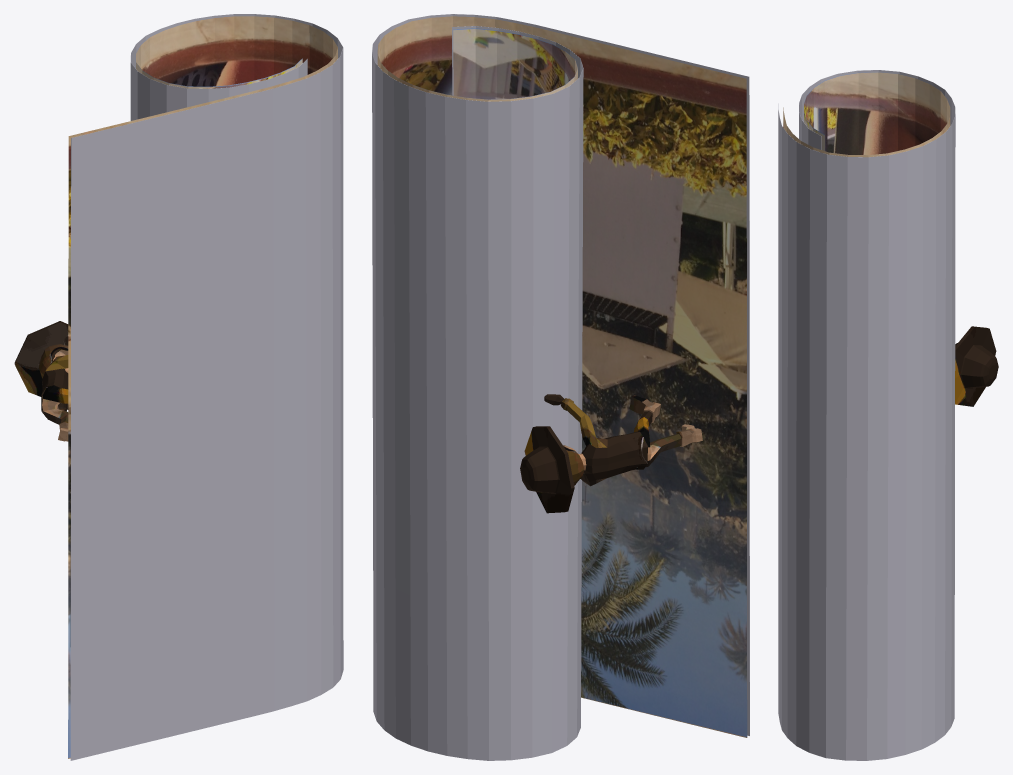
Rendered from start_file2_000031.obj.
3 renders of one model, left to right at view 1: azimuth 30°, elevation 25°; view 2: azimuth 150°, elevation 25°; view 3: azimuth 270°, elevation 25°, orthographic. The views are drawn at different scales.
Visible parts, largest first — view 1: Cube_Cube.001, Character_Cube; view 2: Cube_Cube.001, Character_Cube; view 3: Cube_Cube.001, Character_Cube.
Part boxes in pixels (x1=…): Cube_Cube.001: x1=68, y1=14, x2=343, y2=760; Character_Cube: x1=14, y1=321, x2=68, y2=441; Cube_Cube.001: x1=372, y1=14, x2=749, y2=760; Character_Cube: x1=520, y1=394, x2=702, y2=513; Cube_Cube.001: x1=778, y1=70, x2=955, y2=760; Character_Cube: x1=955, y1=326, x2=998, y2=406.
Size of the model in its own units: 0.7771 by 1.52 by 0.5044.
Materials: 2 (2 with a texture image).
